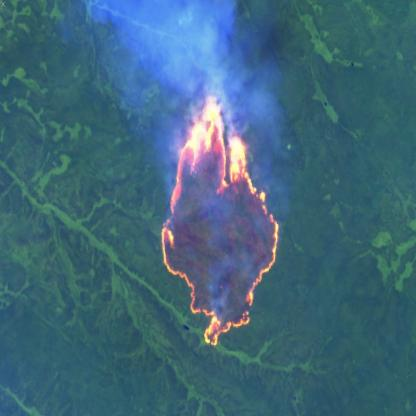fire: (158, 90, 283, 353)
